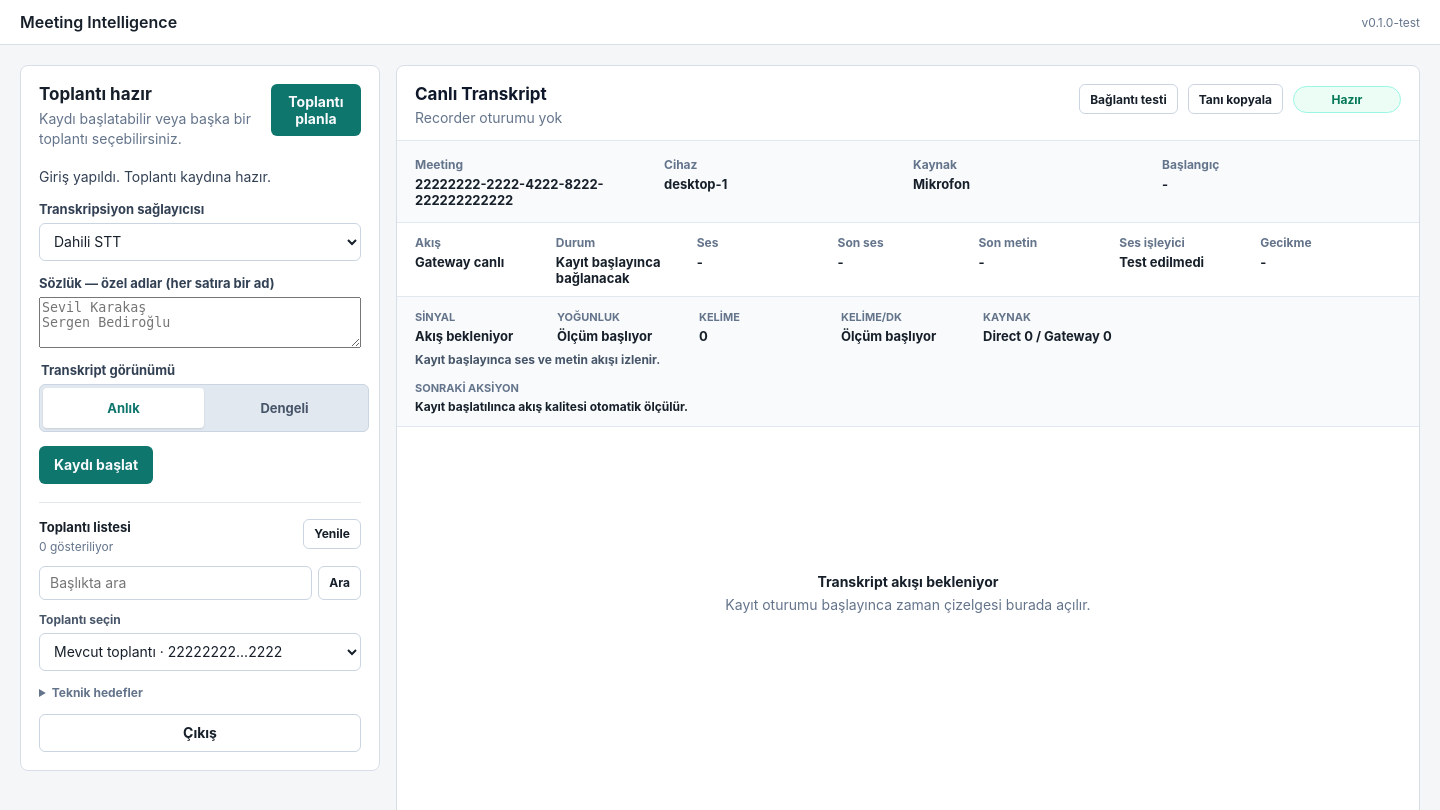
Test: App recorder readiness › Speechmatics secimini anlik gateway oturumuna tasir ve direct streami acmaz
Select "Speechmatics" in the dropdown labelled "Transkripsiyon sağlayıcısı" at (200, 242), box [39,223,361,261]
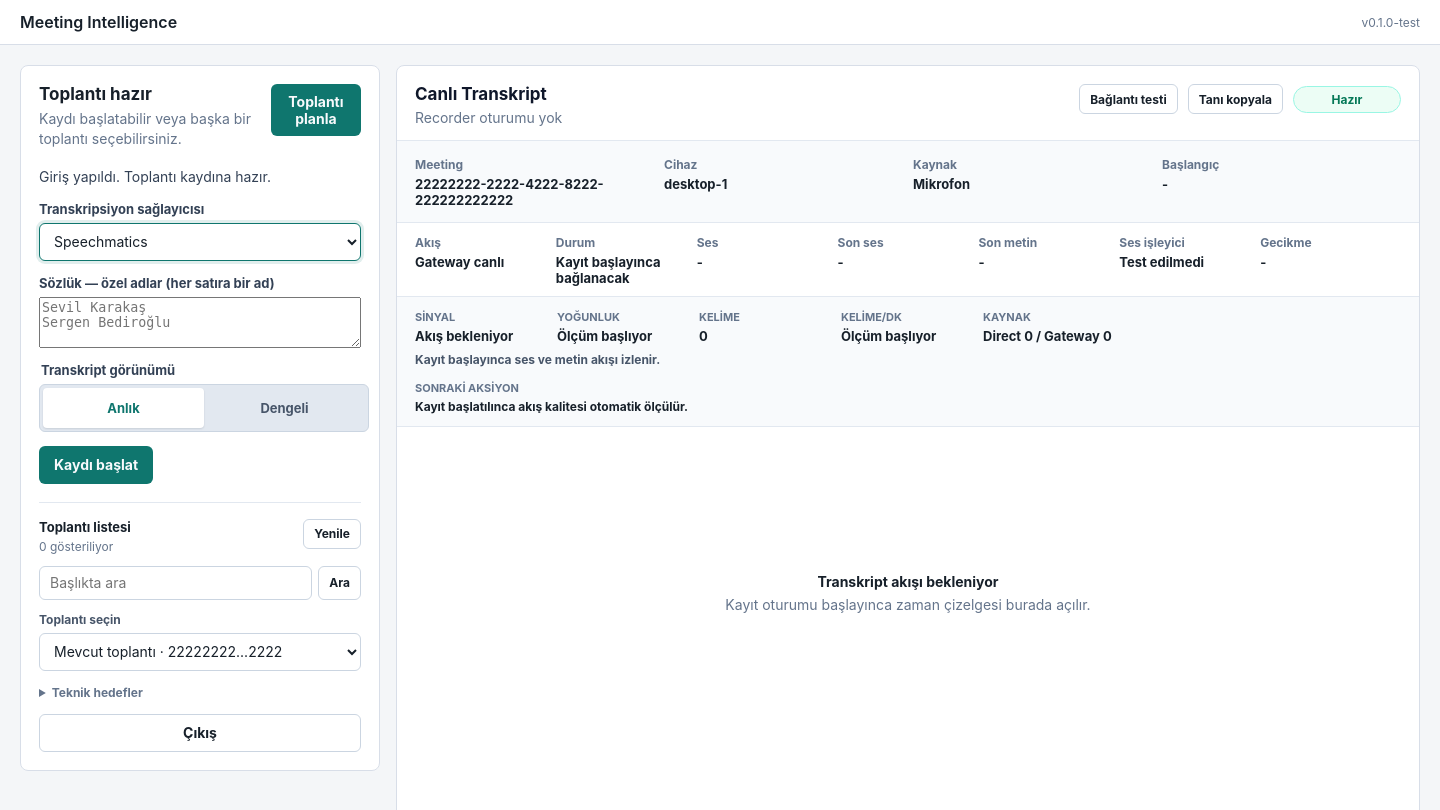
Click the button with aria-label "Kaydet".
click(96, 465)  # box [39,446,153,484]
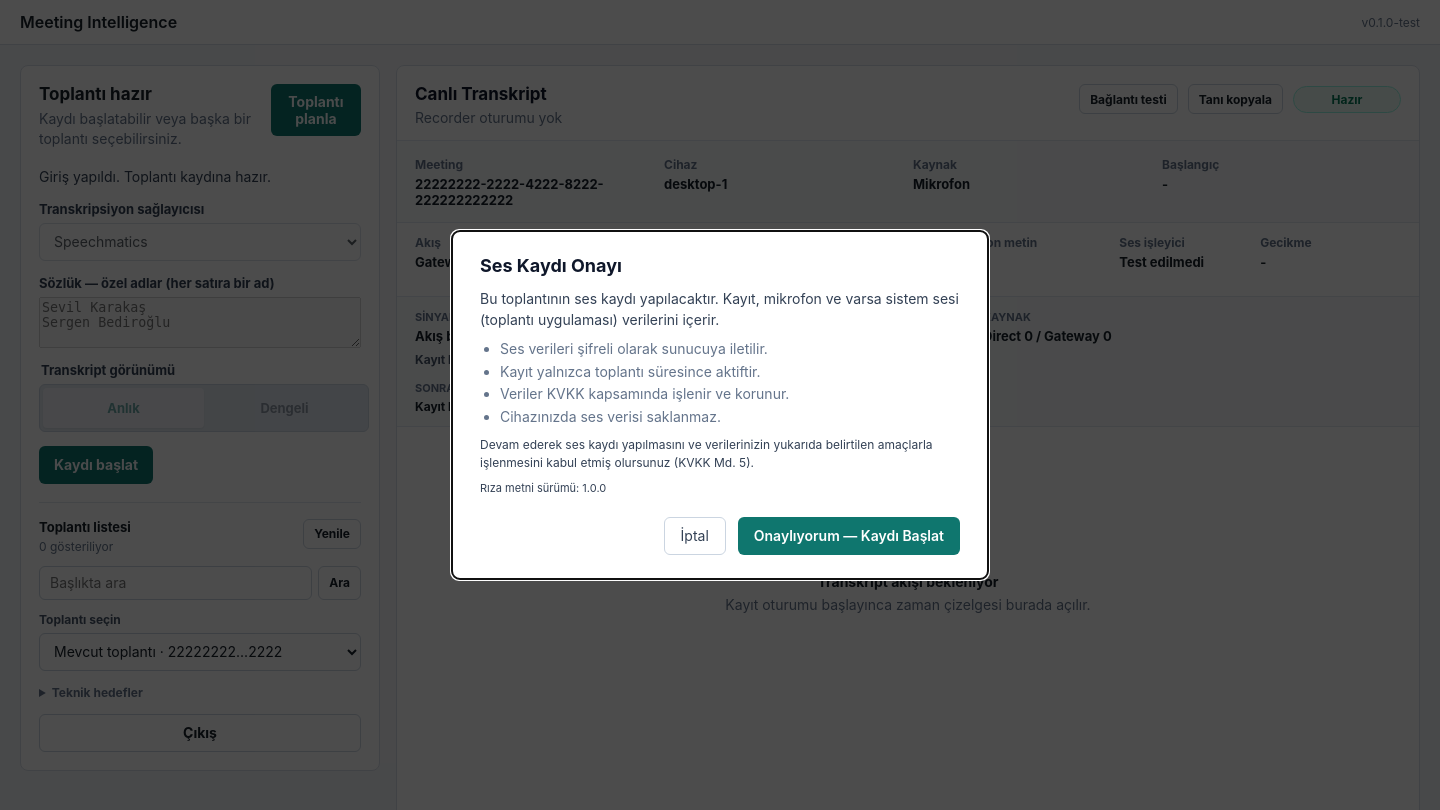
Click the button "Onaylıyorum — Kaydı Başlat".
click(849, 536)  # box [738,516,960,554]
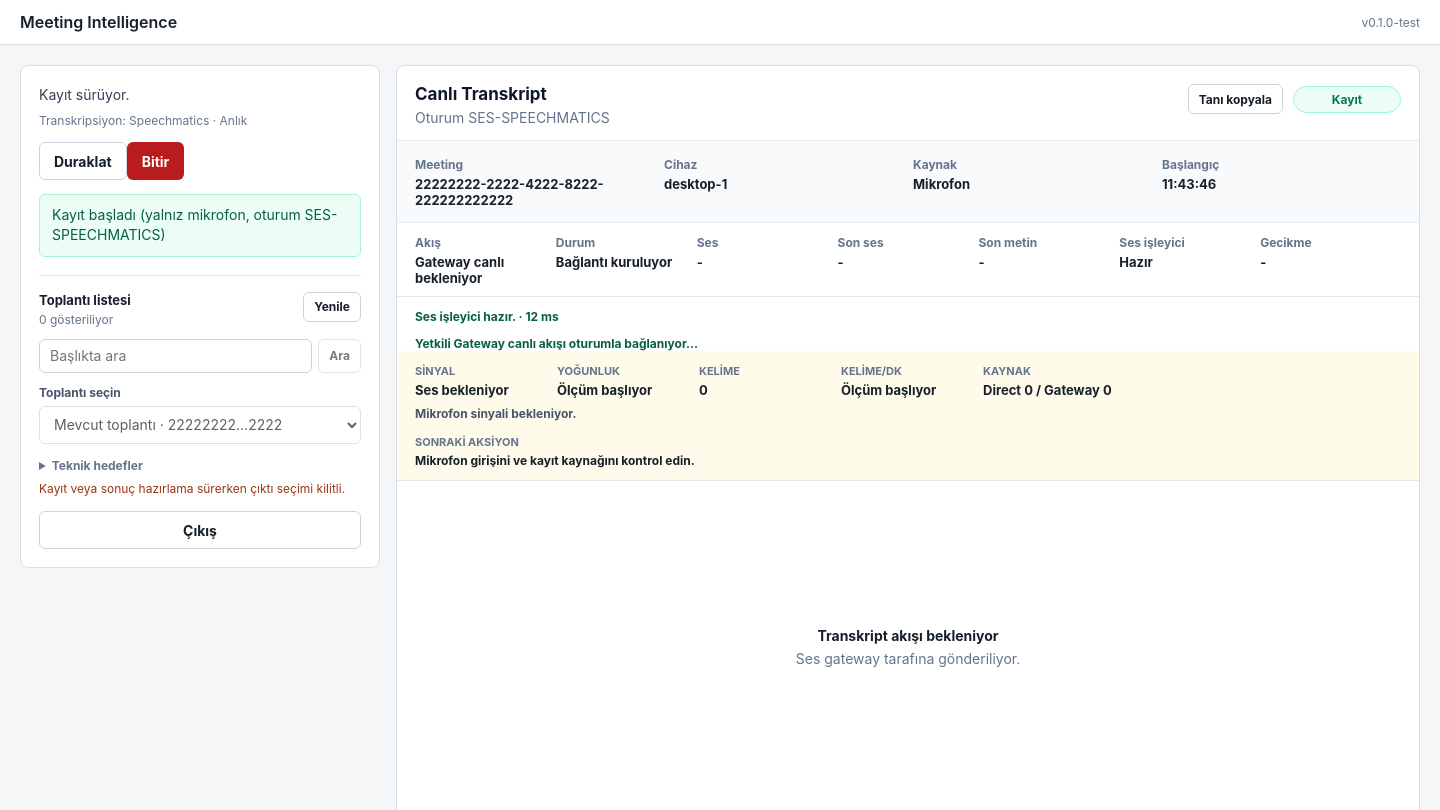
Now the text "Transkripsiyon: Speechmatics · Anlık" is shown, box [39,113,247,128]
